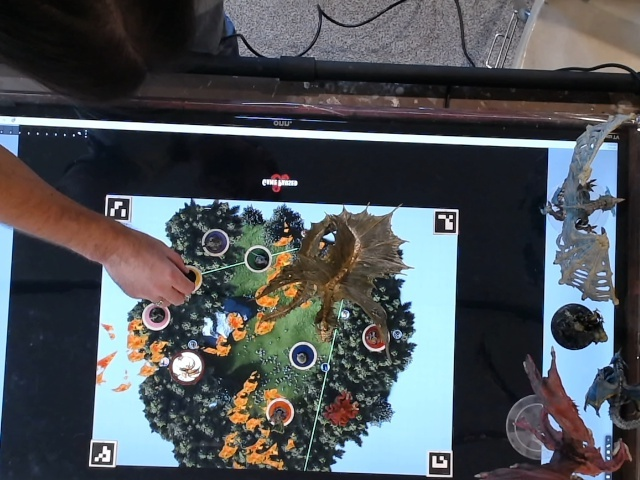blue: (288, 336, 320, 371)
green: (242, 243, 276, 275)
orange: (259, 395, 302, 430)
pink: (139, 299, 172, 331)
red: (360, 320, 395, 354)
violet: (200, 227, 232, 257)
yellow: (167, 263, 207, 297)
